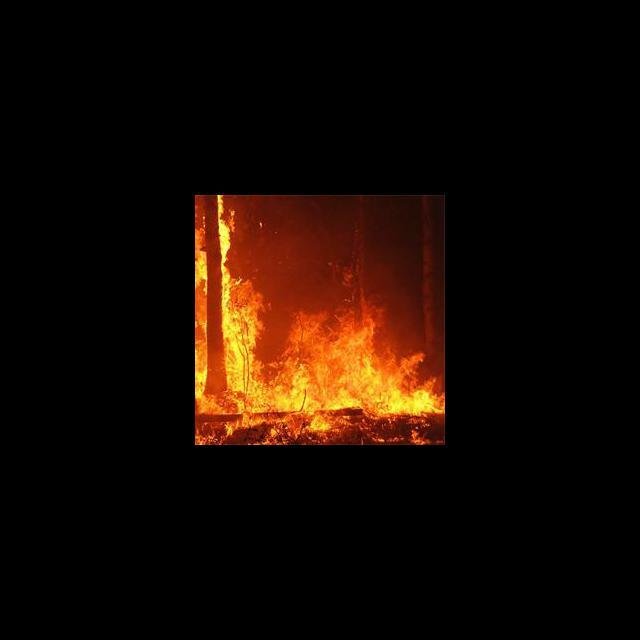Fire: (223, 266, 442, 444), (196, 210, 205, 444), (221, 195, 235, 264), (204, 392, 222, 444)
